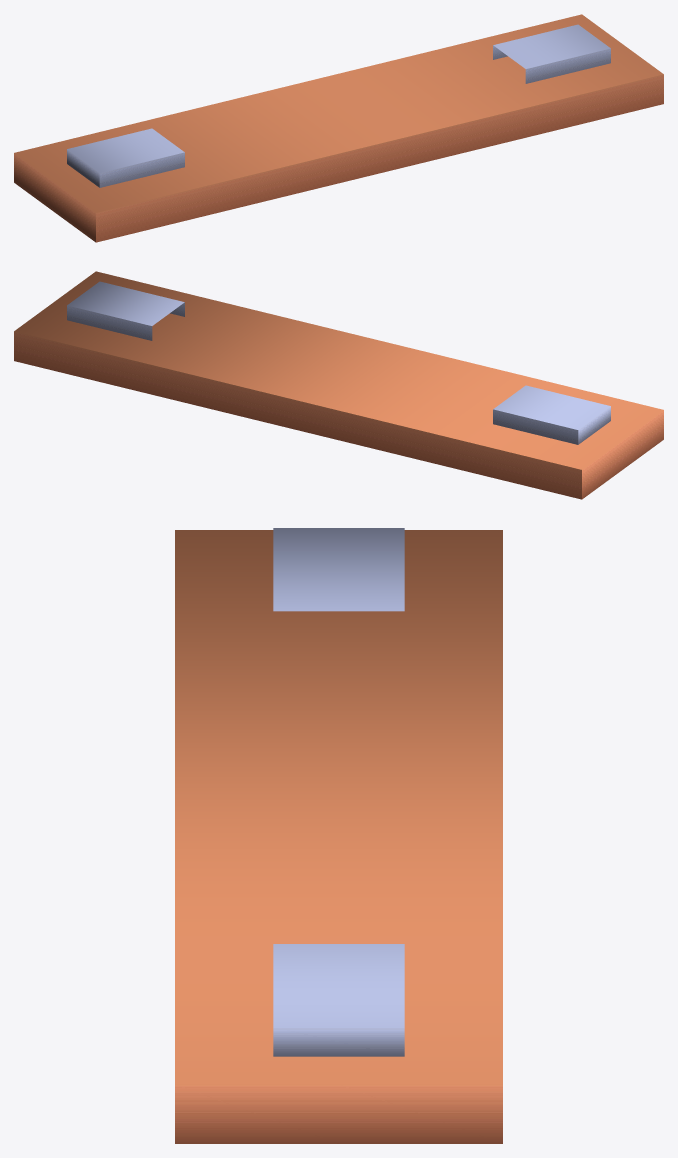
Rendered from spline-segment.glb.
3 views of the same model, one above another, from view 1: azimuth 30°, elevation 25°; view 2: azimuth 150°, elevation 25°; view 3: azimuth 270°, elevation 25° (orthographic). The views are drawn at different scales.
Visible parts, largest first — view 1: spline-segment; view 2: spline-segment; view 3: spline-segment.
Boxes of the visible parts, <box> form: spline-segment: <box>14,14,663,242</box>; spline-segment: <box>14,271,663,499</box>; spline-segment: <box>175,528,502,1143</box>.
Bounding box in the file's own units: 1 × 0.075 × 0.25.
Materials: 1 (1 with a texture image).
